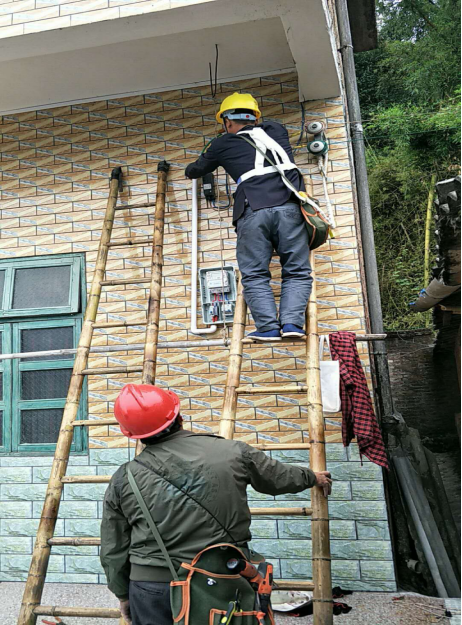downcloth: (128, 579, 171, 625)
downsuit: (234, 212, 316, 331)
halt: (114, 382, 187, 442), (217, 92, 262, 134)
hand: (313, 469, 333, 497), (117, 598, 136, 623)
person: (187, 92, 329, 341)
safebelt: (224, 122, 340, 230)
upcloth: (98, 383, 333, 625), (101, 430, 323, 575), (186, 123, 309, 210)
